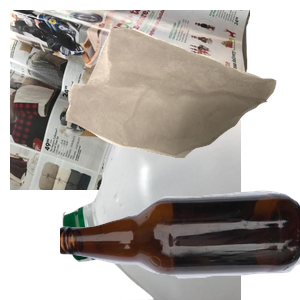glass: (60, 188, 300, 300)
paper: (10, 10, 250, 190)
plastic: (60, 120, 300, 300)
trash: (63, 21, 300, 172)
